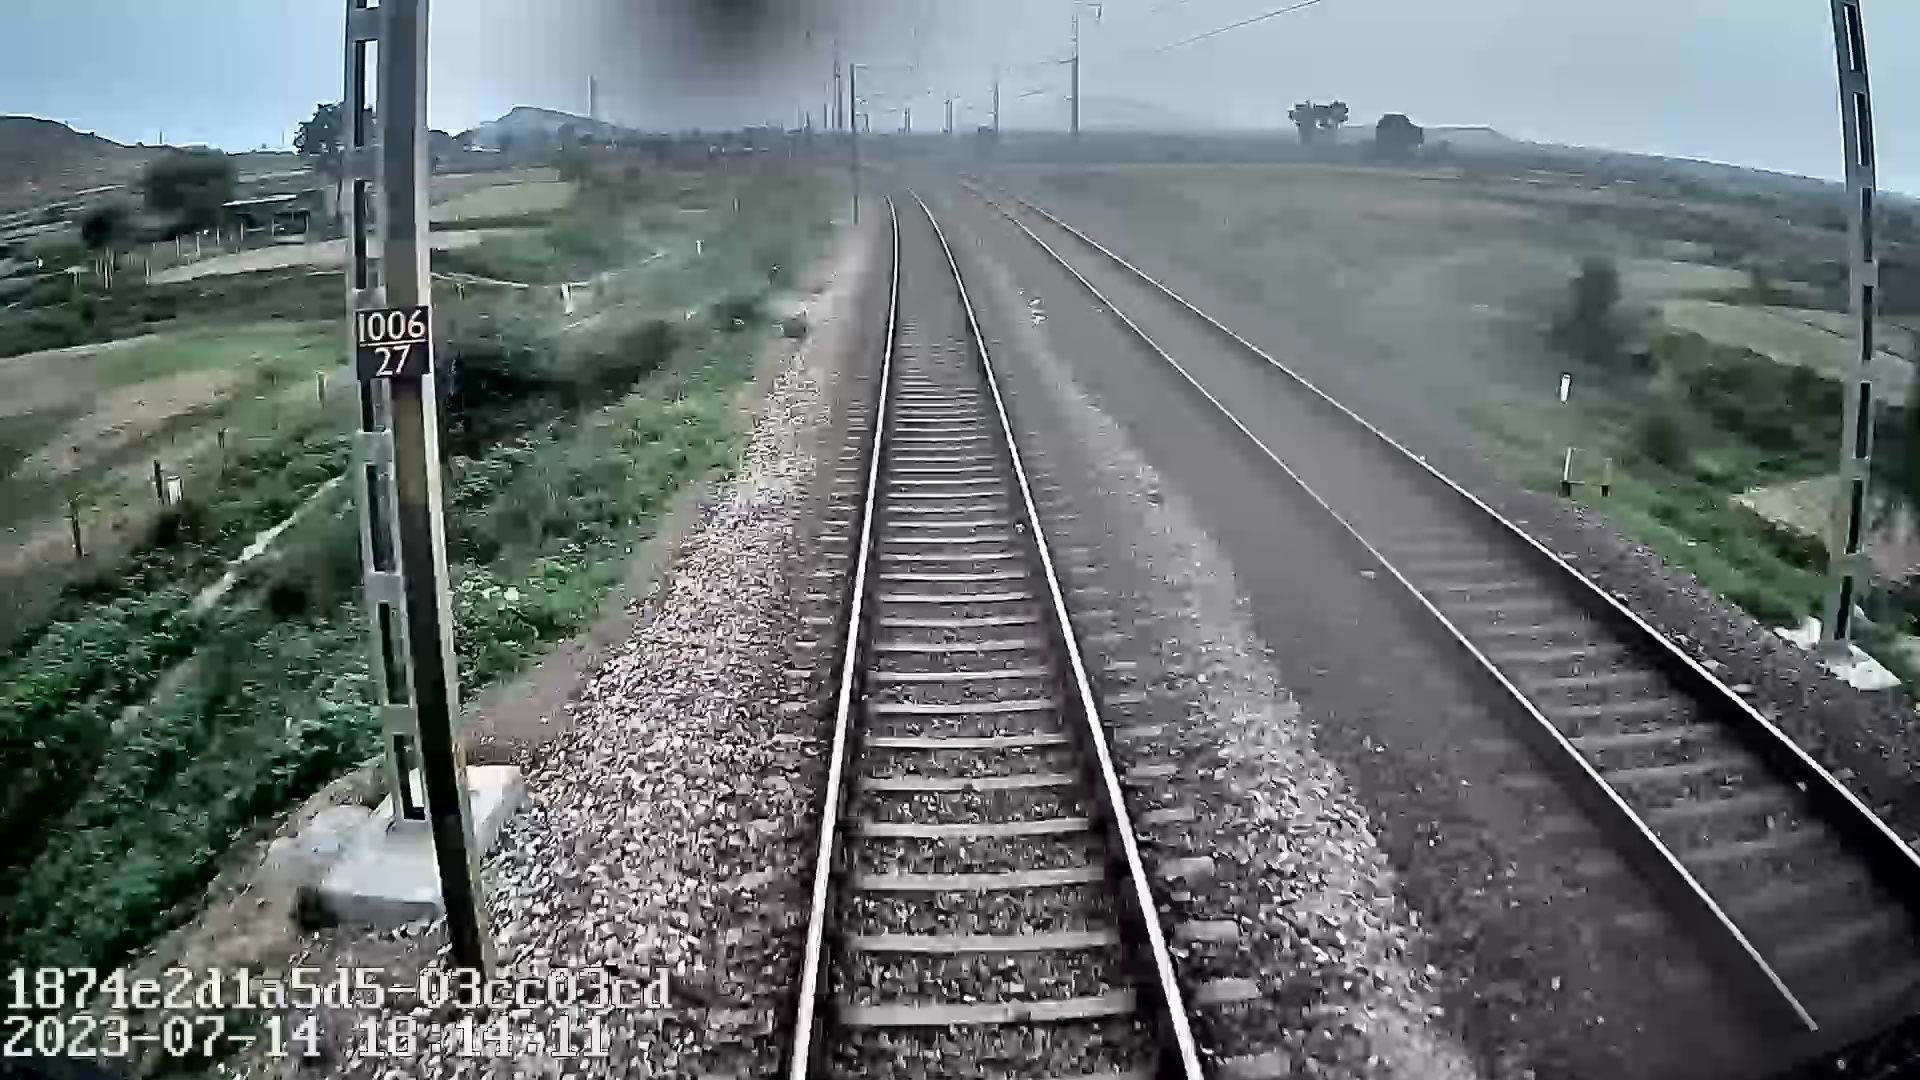track1: (800, 189, 1199, 1076)
track2: (1010, 206, 1919, 1023)
